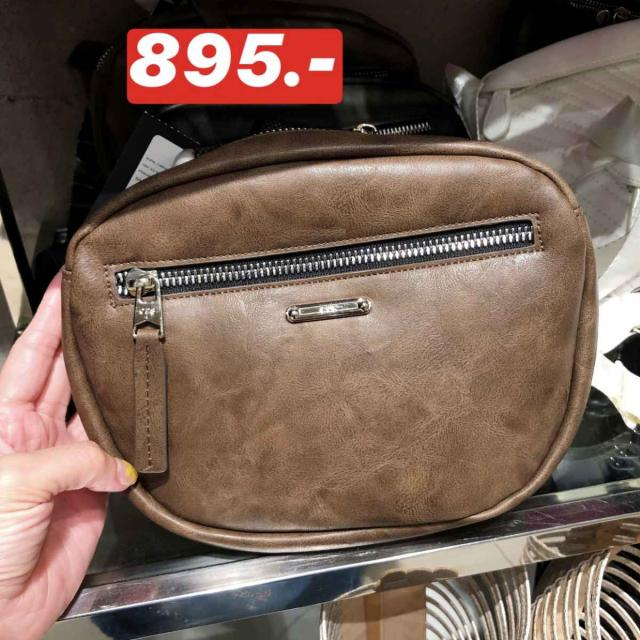Handbag: (64, 126, 600, 552)
